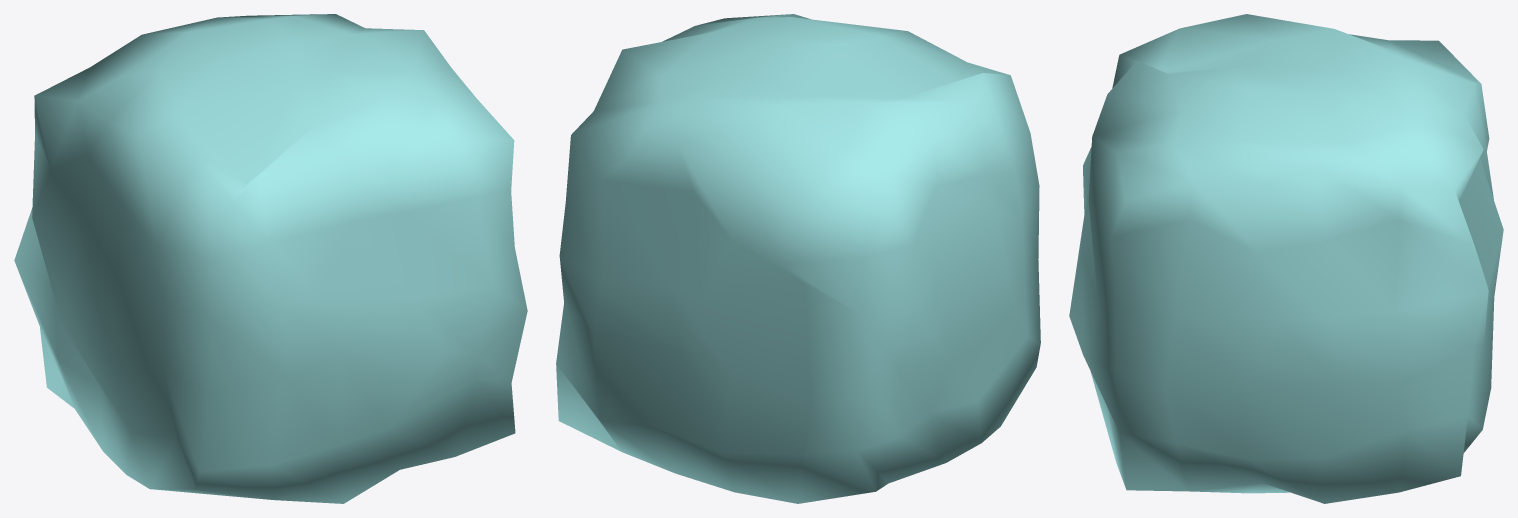
The model's file is fuel.glb.
3 renders of one model, left to right at view 1: azimuth 30°, elevation 25°; view 2: azimuth 150°, elevation 25°; view 3: azimuth 270°, elevation 25°, orthographic.
Parts seen in each view (by area): view 1: fuel; view 2: fuel; view 3: fuel.
Part boxes in pixels (<box>): fuel: <box>14,14,527,503</box>; fuel: <box>556,14,1040,503</box>; fuel: <box>1069,14,1503,503</box>.
Size of the model in its own units: 1.19 by 1.16 by 1.18.
